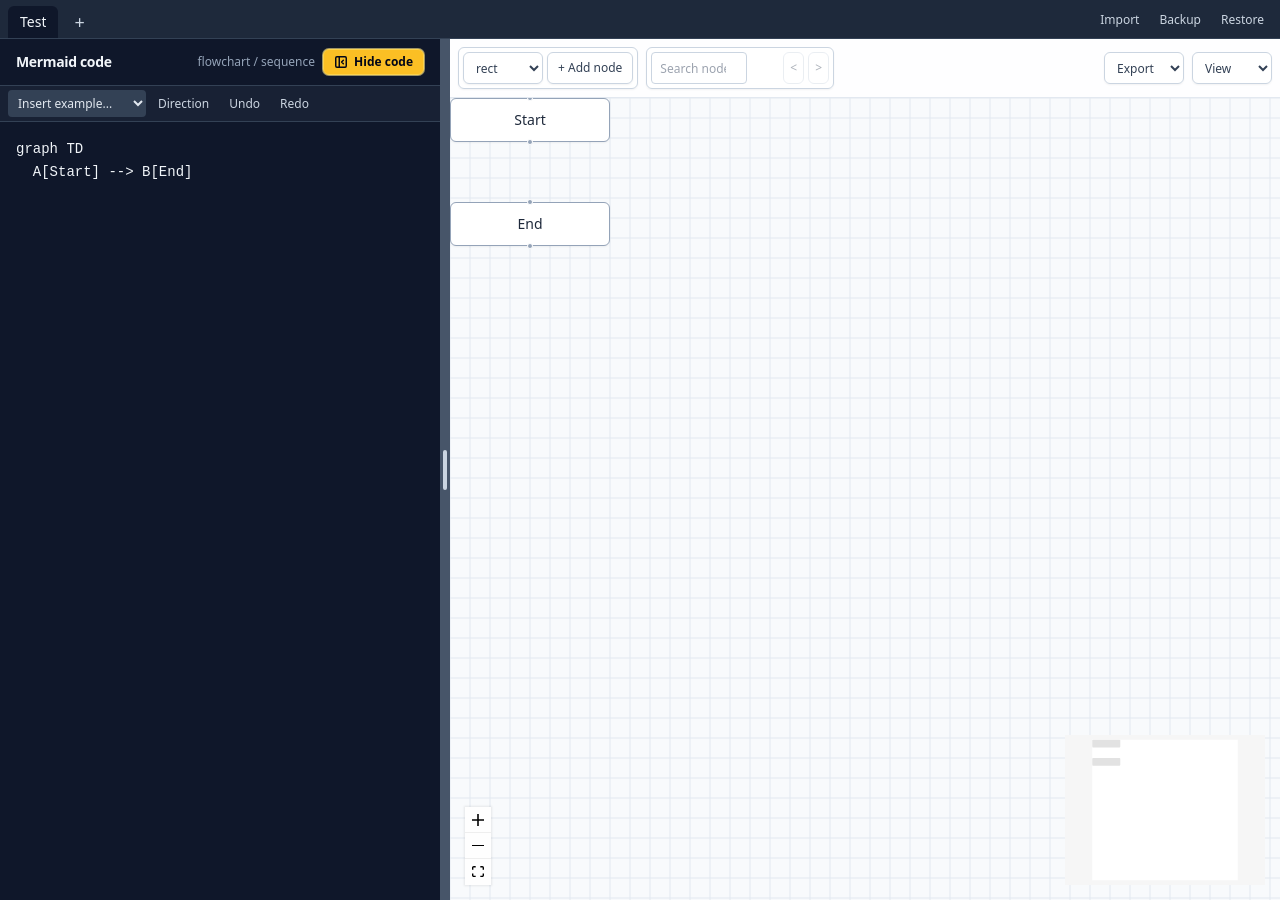
Test: MermaidVisualEditor: node label editing › selects the diagram node when its Mermaid code is clicked
Click the text box.
click(220, 511)  # box [0,122,440,899]
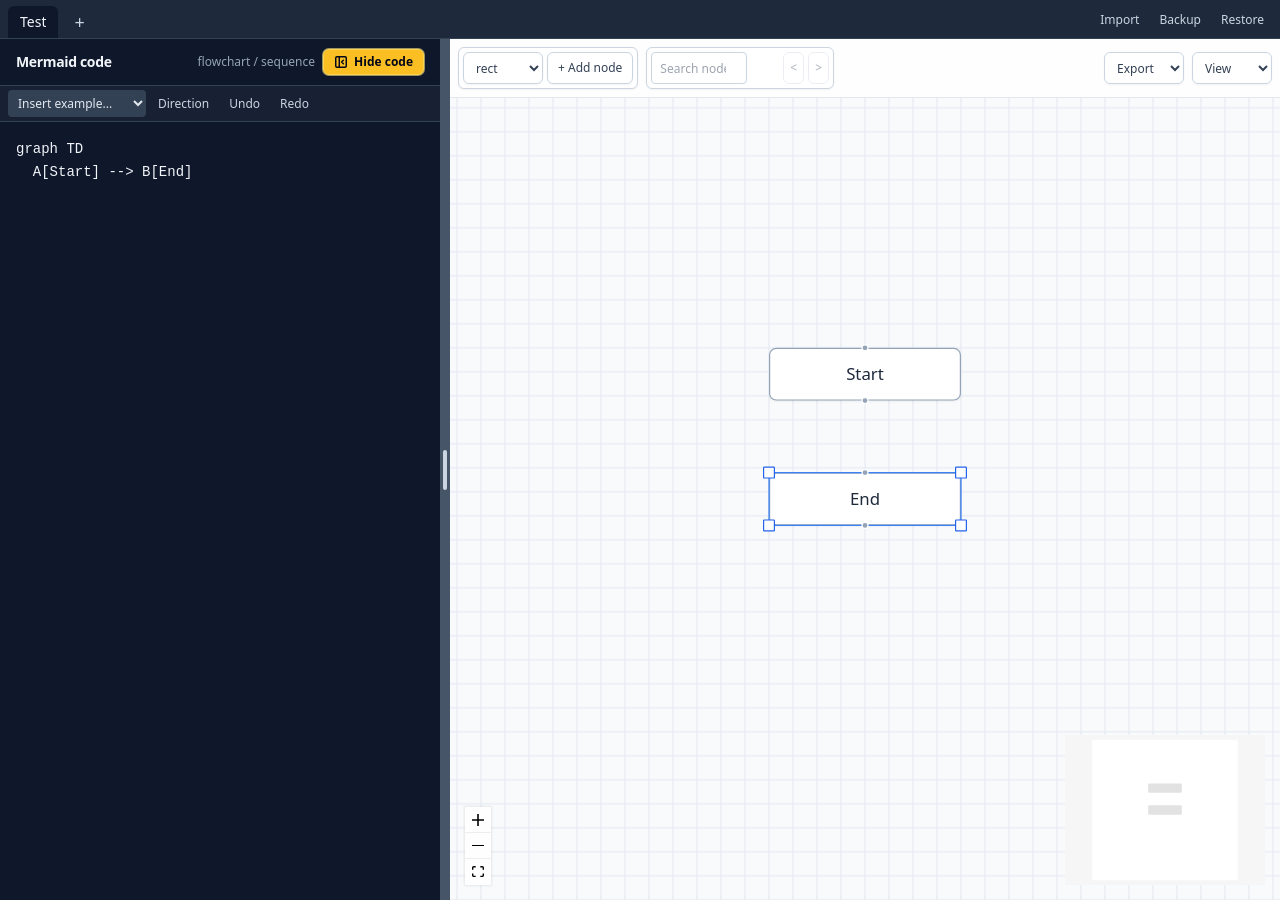
expect the 2nd element with class "react-flow__resize-control" is shown: met, box [769,472,961,473]
expect the element with class "diagram-node-flash" is shown: met, box [769,473,961,525]
